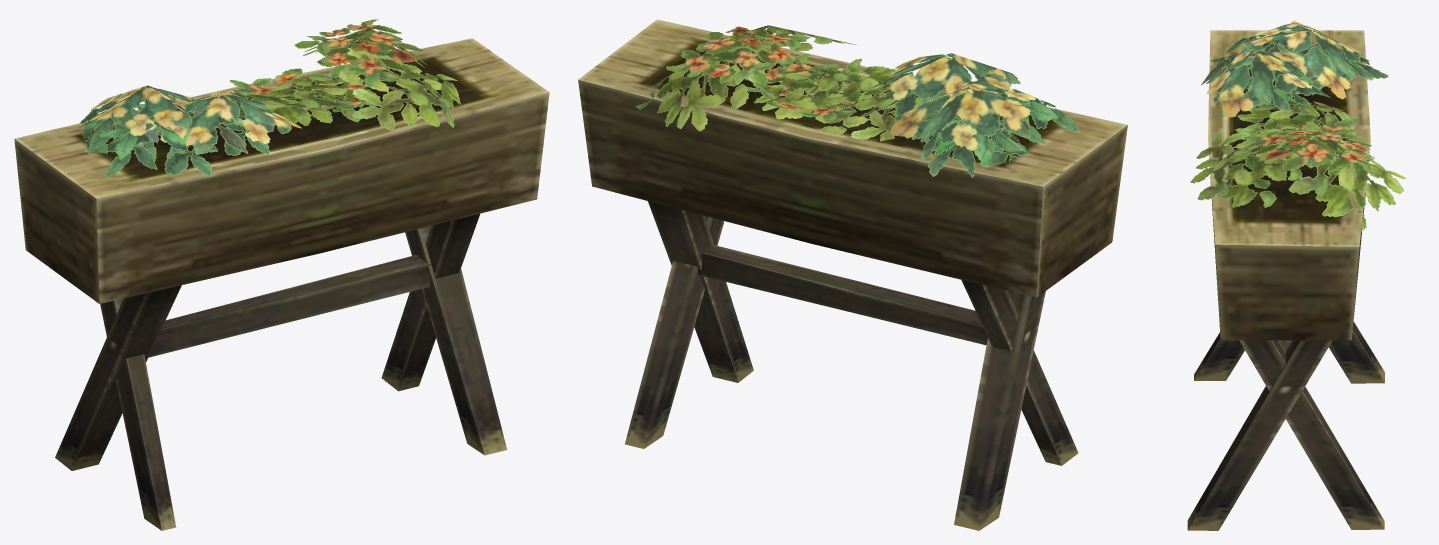
File: OZ_04_wv_plant04A.glb
3 renders of one model, left to right at view 1: azimuth 30°, elevation 25°; view 2: azimuth 150°, elevation 25°; view 3: azimuth 270°, elevation 25°, orthographic. The views are drawn at different scales.
Visible parts, largest first — view 1: OM_04_wv_plant04A; view 2: OM_04_wv_plant04A; view 3: OM_04_wv_plant04A.
Part boxes in pixels (x1,y1,x2,y2): OM_04_wv_plant04A: [14, 19, 549, 530]; OM_04_wv_plant04A: [578, 19, 1127, 530]; OM_04_wv_plant04A: [1187, 20, 1406, 530].
Size of the model in its own units: 1.17 by 0.9551 by 0.6357.
Materials: 1 (1 with a texture image).
